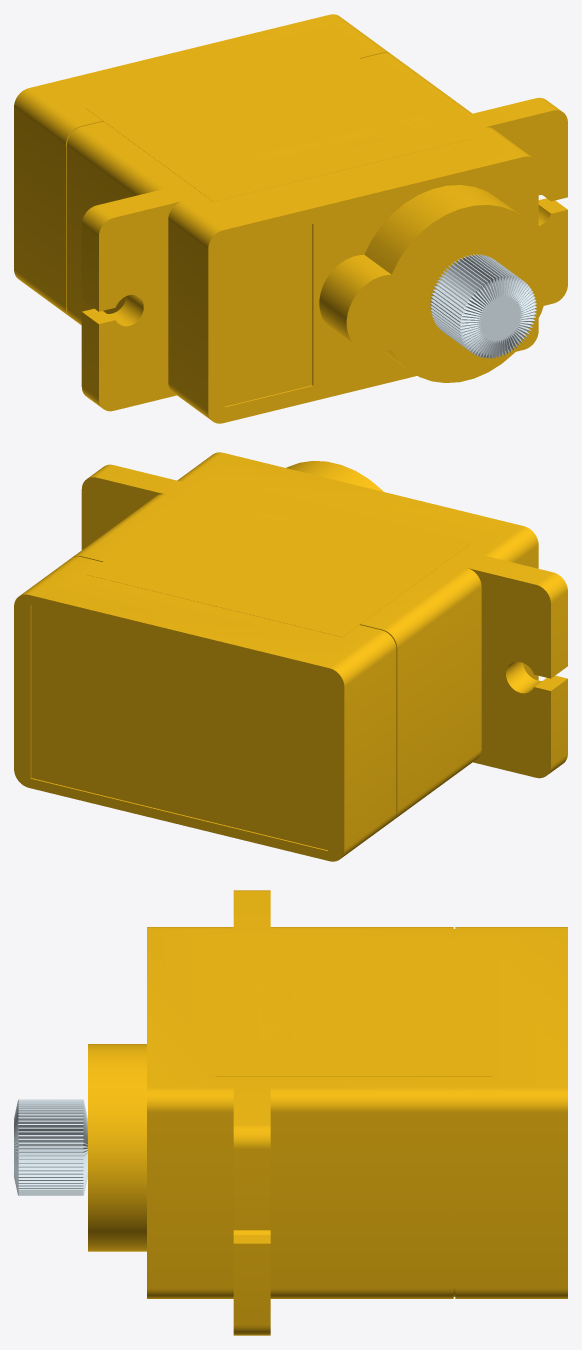
The picture shows the model from 3 angles, top to bottom: view 1: azimuth 30°, elevation 25°; view 2: azimuth 150°, elevation 25°; view 3: azimuth 270°, elevation 25°; orthographic projection. The views are drawn at different scales.
Visible parts, largest first — view 1: Part 2, Part 1; view 2: Part 2; view 3: Part 2, Part 1.
Part boxes in pixels (bbox=[...]): Part 2: bbox=[14, 14, 567, 423]; Part 1: bbox=[430, 254, 536, 358]; Part 2: bbox=[14, 452, 567, 861]; Part 2: bbox=[88, 890, 567, 1335]; Part 1: bbox=[14, 1099, 87, 1195].
Size of the model in its own units: 0.0318 by 0.0125 by 0.03.
